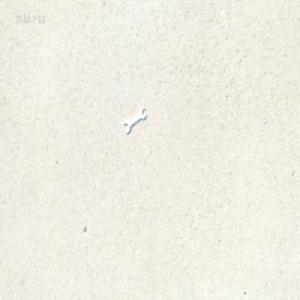Wrench: (122, 107, 145, 135)
